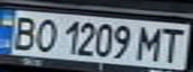0: (93, 20, 115, 58)
1: (57, 18, 81, 55)
2: (75, 19, 96, 57)
9: (112, 22, 136, 61)
B: (6, 14, 42, 52)
M: (136, 24, 166, 62)
O: (30, 16, 60, 53)
T: (154, 25, 187, 63)
